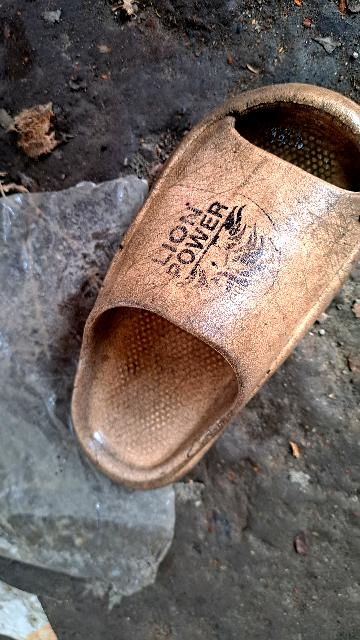sandal: (22, 54, 360, 505)
